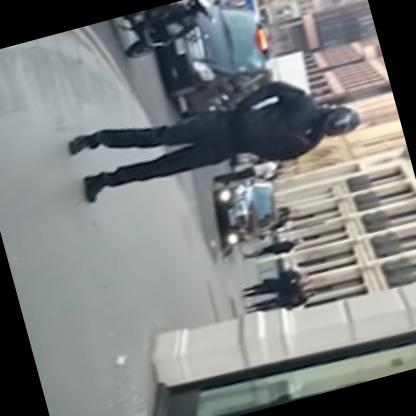Human Body: (56, 46, 376, 232)
